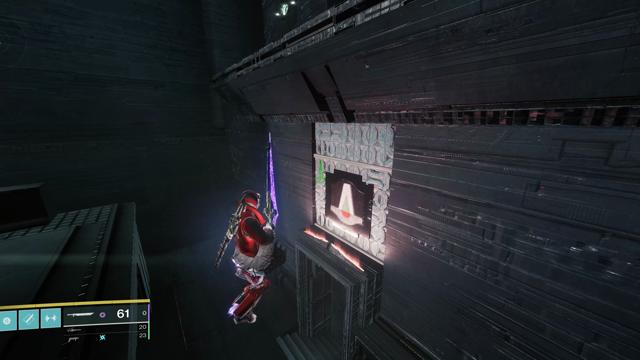enter: (329, 180, 365, 226)
